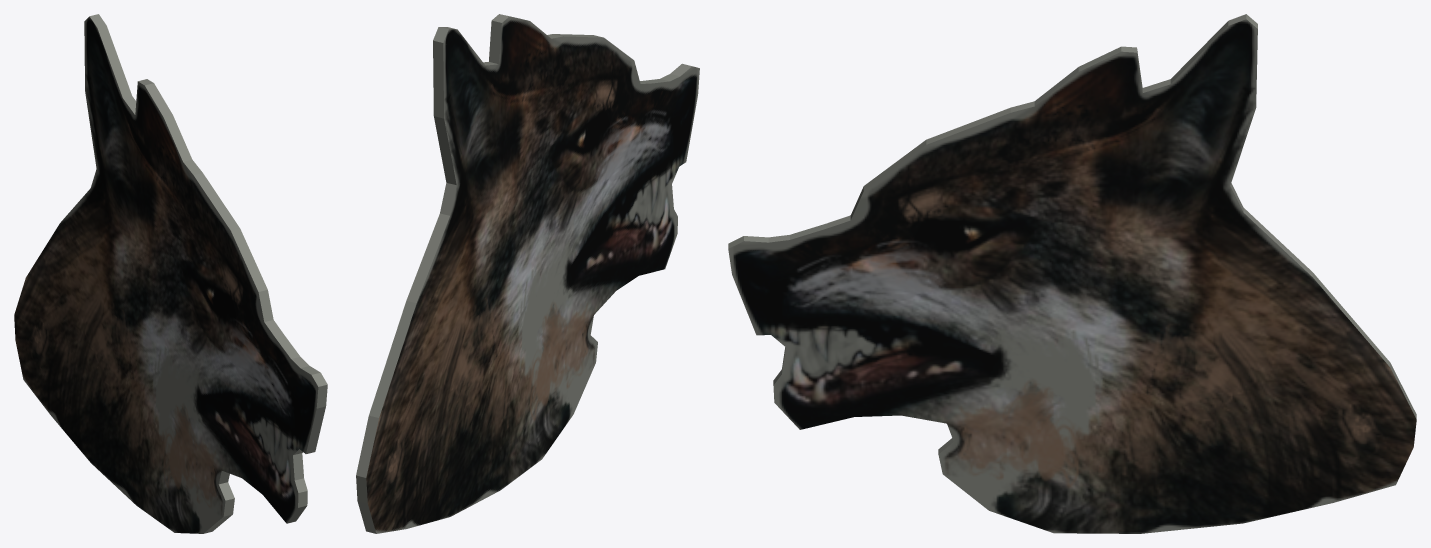
File: Wolf_head.fbx
3 renders of one model, left to right at view 1: azimuth 30°, elevation 25°; view 2: azimuth 150°, elevation 25°; view 3: azimuth 270°, elevation 25°, orthographic. The views are drawn at different scales.
Visible parts, largest first — view 1: Wolf_head; view 2: Wolf_head; view 3: Wolf_head.
Boxes of the visible parts, x1,y1,x2,y2 form: Wolf_head: (14,14,327,533); Wolf_head: (356,14,699,533); Wolf_head: (728,14,1416,533).
Bounding box in the file's own units: 0.9861 × 45.51 × 55.17.
